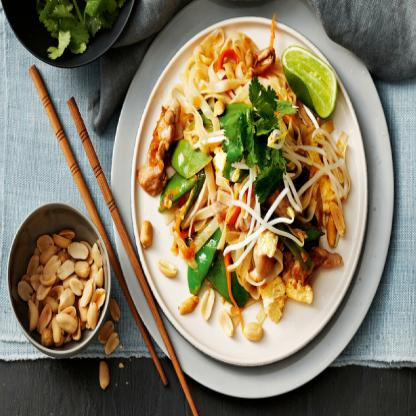Pad Thai: (134, 34, 350, 368)
